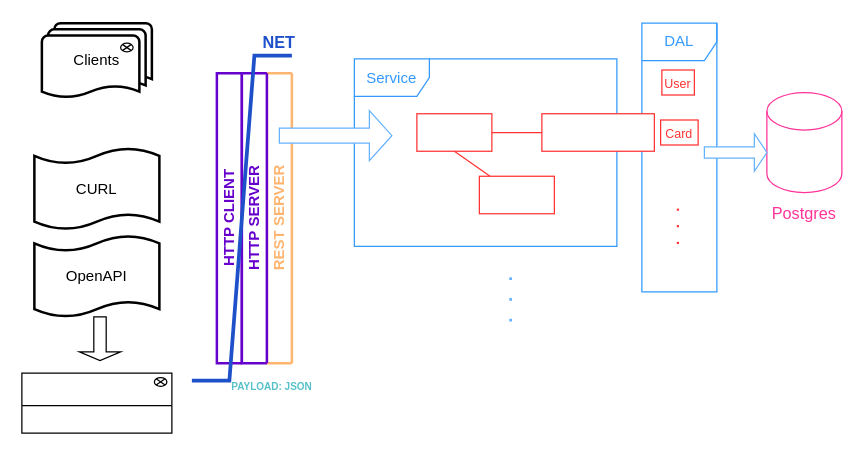
Image size: 864x458. Some labels were removed from this diagram. Each missing label, with the centre of its shape:
"Controller" goes at point 454,131.
"DB" goes at point 804,141.
"Model" goes at point 597,131.
"POSTMAN TALEND" goes at point 96,402.
"View" goes at point 516,194.
